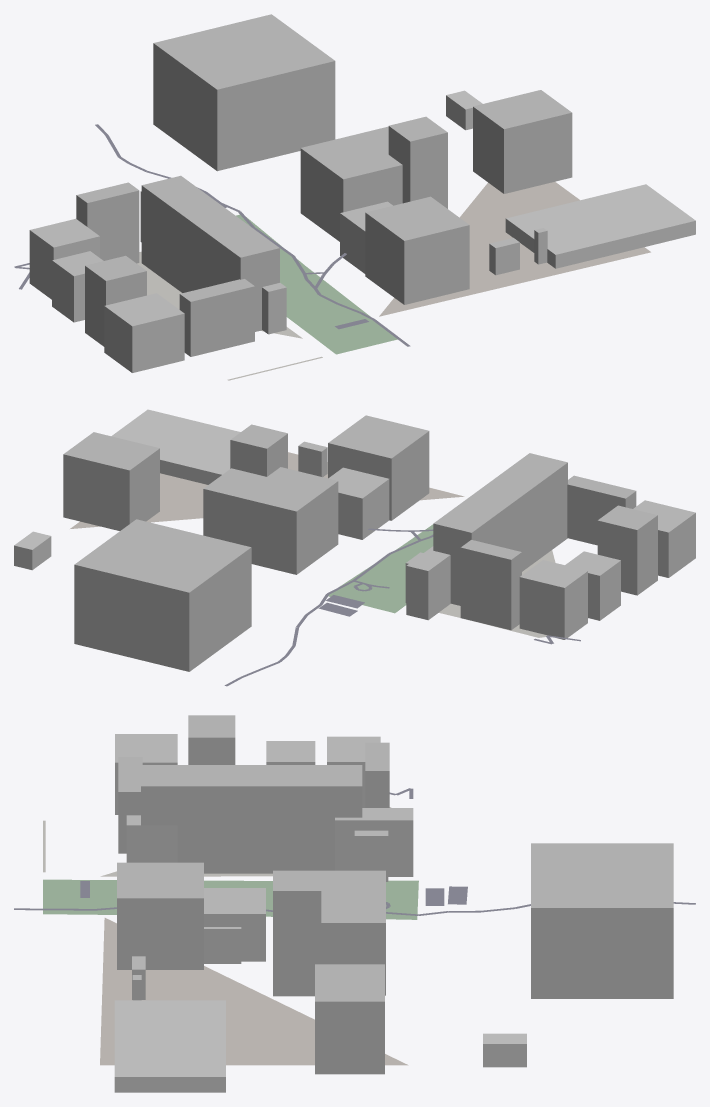
Rendered from 116_75_mid.glb.
The picture shows the model from 3 angles, top to bottom: view 1: azimuth 30°, elevation 25°; view 2: azimuth 150°, elevation 25°; view 3: azimuth 270°, elevation 25°; orthographic projection. The views are drawn at different scales.
Bounding box in the file's own units: 543 × 88.44 × 509.
